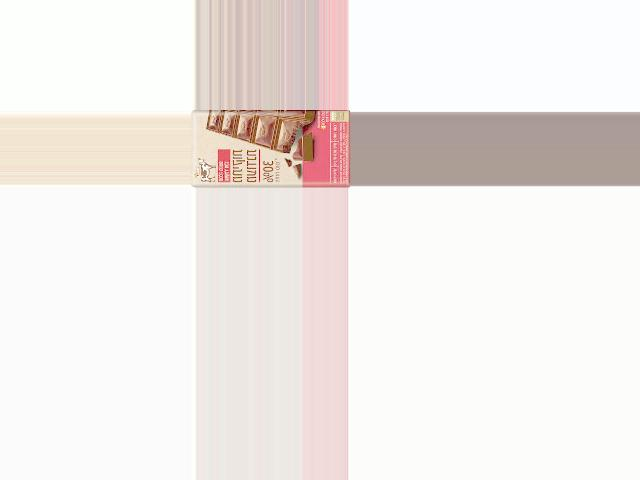chocolate: (191, 110, 349, 188)
